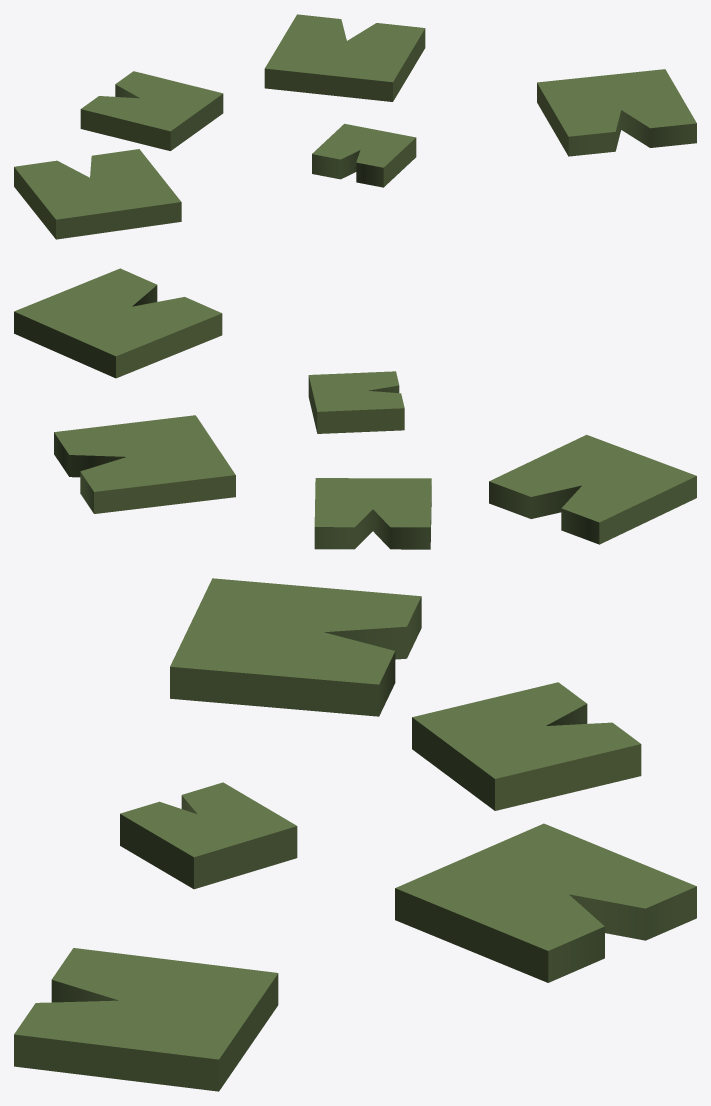
The model's file is SF_Env_RiverPlants_03.FBX.
3 views of the same model, one above another, from view 1: azimuth 30°, elevation 25°; view 2: azimuth 150°, elevation 25°; view 3: azimuth 270°, elevation 25° (orthographic). The views are drawn at different scales.
Parts seen in each view (by area): view 1: SF_Env_RiverPlants_03, SF_Env_RiverPlants_03_Elements2, SF_Env_RiverPlants_03_Elements5, SF_Env_RiverPlants_03_Elements3, SF_Env_RiverPlants_03_Elements1, SF_Env_RiverPlants_03_Elements4; view 2: SF_Env_RiverPlants_03, SF_Env_RiverPlants_03_Elements2, SF_Env_RiverPlants_03_Elements3, SF_Env_RiverPlants_03_Elements5, SF_Env_RiverPlants_03_Elements1, SF_Env_RiverPlants_03_Elements4; view 3: SF_Env_RiverPlants_03, SF_Env_RiverPlants_03_Elements3, SF_Env_RiverPlants_03_Elements5, SF_Env_RiverPlants_03_Elements2, SF_Env_RiverPlants_03_Elements1, SF_Env_RiverPlants_03_Elements4.
Boxes of the visible parts, box(x1,y1,x2,y2) form: SF_Env_RiverPlants_03: box(14, 14, 696, 239); SF_Env_RiverPlants_03_Elements2: box(265, 17, 391, 81); SF_Env_RiverPlants_03_Elements5: box(19, 156, 174, 218); SF_Env_RiverPlants_03_Elements3: box(548, 70, 693, 129); SF_Env_RiverPlants_03_Elements1: box(84, 85, 221, 130); SF_Env_RiverPlants_03_Elements4: box(341, 124, 413, 163); SF_Env_RiverPlants_03: box(14, 268, 696, 549); SF_Env_RiverPlants_03_Elements2: box(74, 416, 235, 489); SF_Env_RiverPlants_03_Elements3: box(16, 270, 182, 354); SF_Env_RiverPlants_03_Elements5: box(534, 438, 694, 516); SF_Env_RiverPlants_03_Elements1: box(317, 478, 431, 526); SF_Env_RiverPlants_03_Elements4: box(310, 373, 393, 411); SF_Env_RiverPlants_03: box(14, 578, 696, 1091); SF_Env_RiverPlants_03_Elements3: box(25, 974, 276, 1058); SF_Env_RiverPlants_03_Elements5: box(170, 578, 410, 666); SF_Env_RiverPlants_03_Elements2: box(402, 824, 693, 924); SF_Env_RiverPlants_03_Elements1: box(414, 684, 611, 778); SF_Env_RiverPlants_03_Elements4: box(122, 795, 293, 855).
Bounding box in the file's own units: 6.77 × 0.2102 × 4.06.
